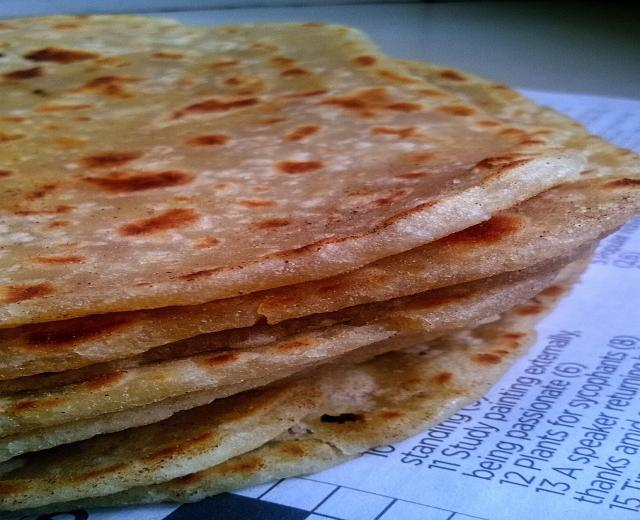chapati: (0, 15, 639, 518)
